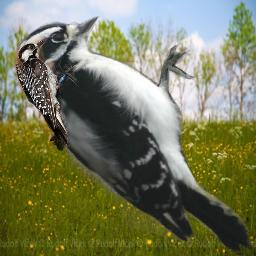Woodpecker: (16, 16, 252, 255), (10, 34, 86, 151)
